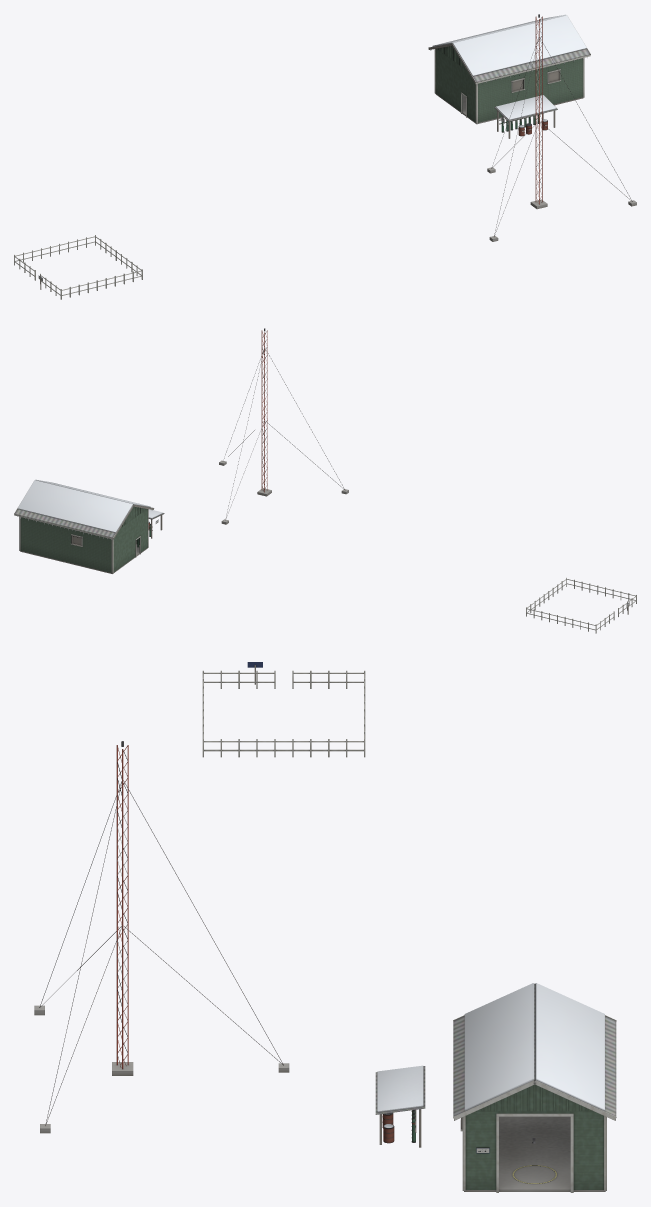
The model's file is corpus_yard.glb.
3 renders of one model, top to bottom at view 1: azimuth 30°, elevation 25°; view 2: azimuth 150°, elevation 25°; view 3: azimuth 270°, elevation 25°, orthographic. The views are drawn at different scales.
Parts seen in each view (by area): view 1: corpus_yard; view 2: corpus_yard; view 3: corpus_yard.
Boxes of the visible parts, box(x1,y1,x2,y2) form: corpus_yard: box(14, 14, 636, 299); corpus_yard: box(14, 328, 636, 633); corpus_yard: box(34, 662, 616, 1192).
Size of the model in its own units: 67.53 by 20.31 by 32.51.
1 material, 1 textured.
